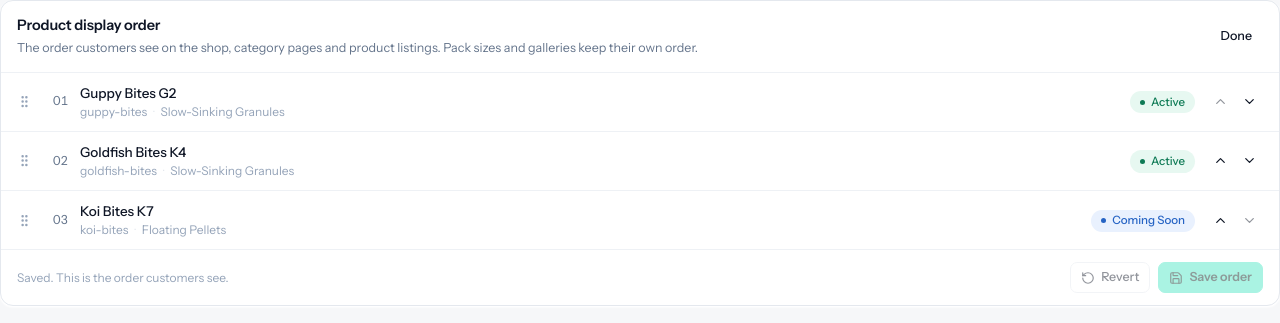
Test: reordering › marks the panel unsaved once the order changes
Expected: the text "Unsaved" is not shown
Step 1. Click the button named "Move Guppy Bites G2 down to position 2" → (1250, 102), box [1236,88,1263,115]
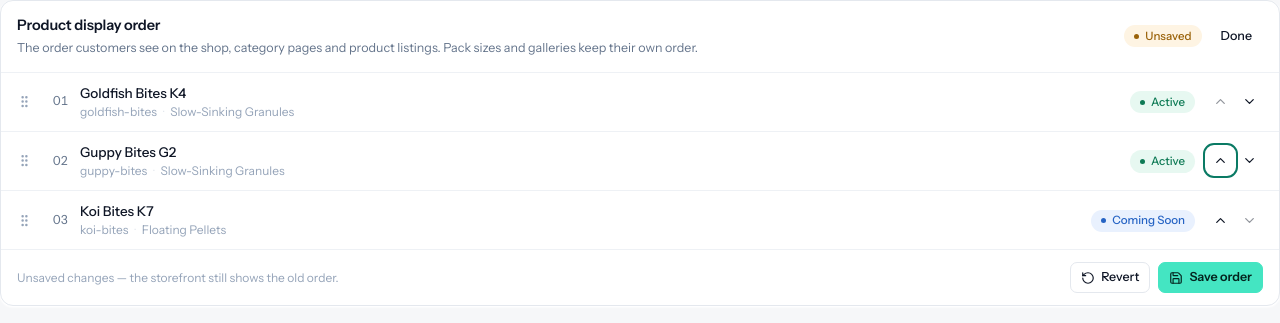
Expected: the text "Unsaved" is shown, [1124,25,1202,47]
